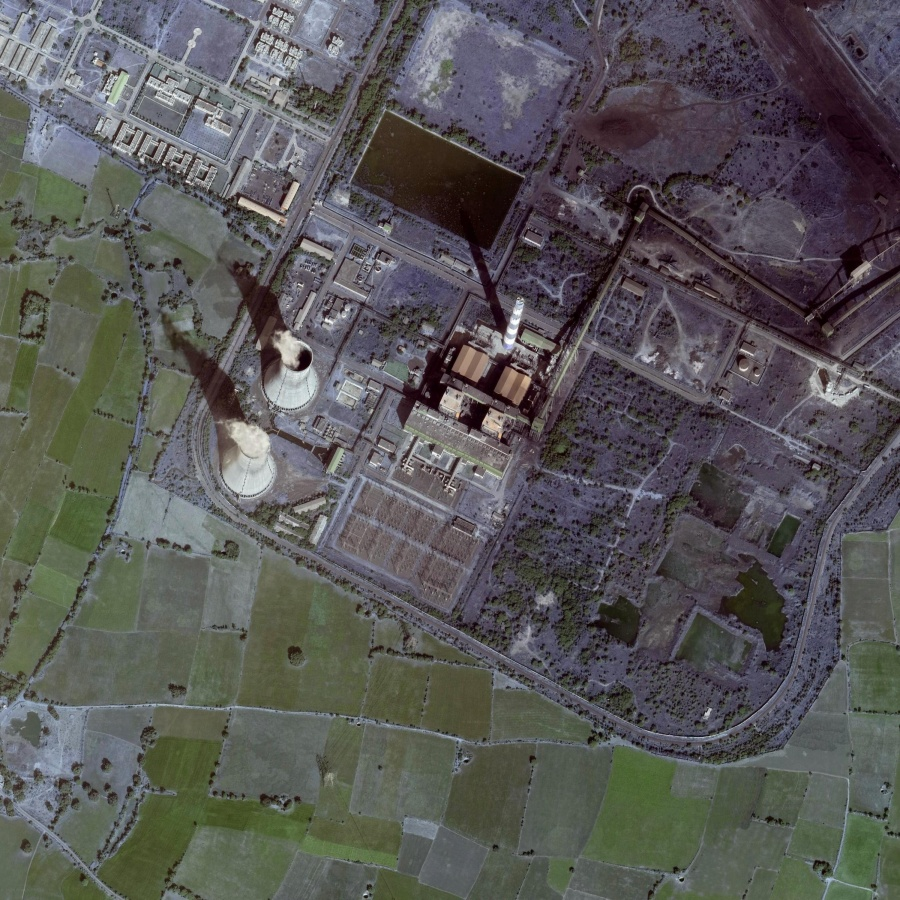PowerPlant: (187, 94, 624, 552)
